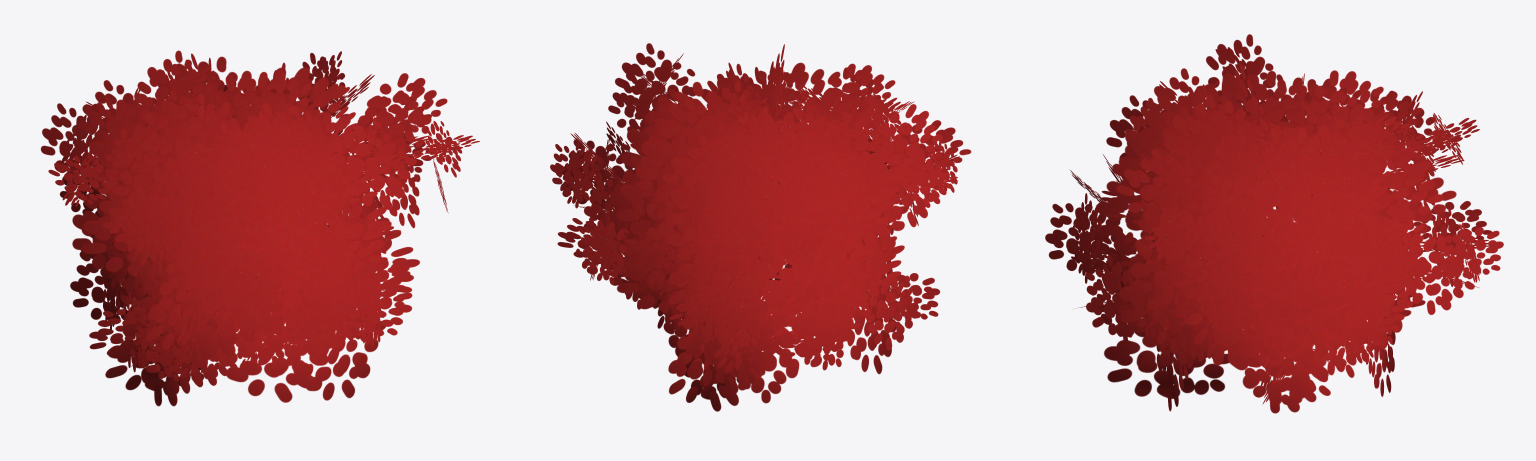
The model's file is n_bush.glb.
3 renders of one model, left to right at view 1: azimuth 30°, elevation 25°; view 2: azimuth 150°, elevation 25°; view 3: azimuth 270°, elevation 25°, orthographic. The views are drawn at different scales.
Parts seen in each view (by area): view 1: Bush_Common; view 2: Bush_Common; view 3: Bush_Common.
Part boxes in pixels (<box>): Bush_Common: <box>40,50,479,406</box>; Bush_Common: <box>550,43,971,411</box>; Bush_Common: <box>1045,34,1503,413</box>.
Bounding box in the file's own units: 1.91 × 1.58 × 1.97.
Materials: 1 (1 with a texture image).
